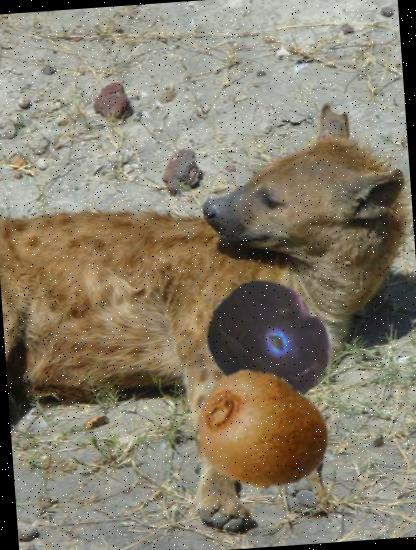Kiwi: (192, 358, 335, 500)
Passion: (200, 272, 340, 412)
